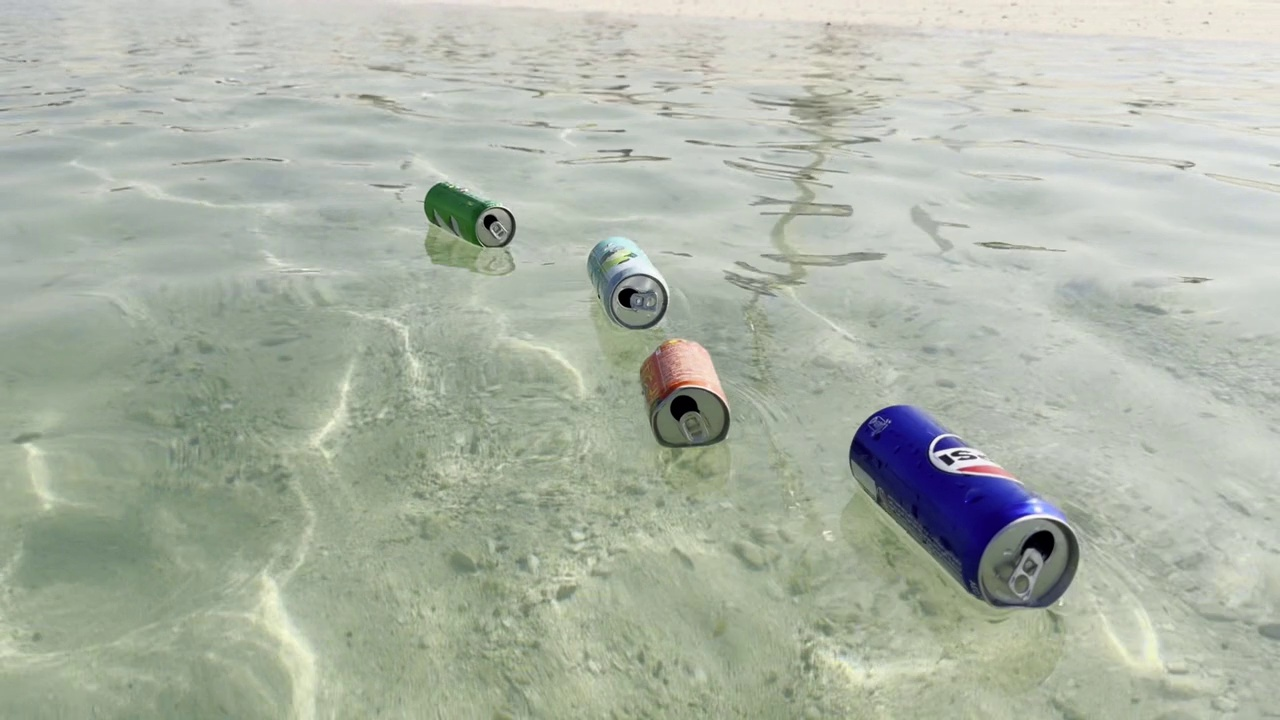debris: (841, 393, 1088, 623), (629, 321, 738, 456), (582, 230, 668, 339), (421, 174, 524, 263)
